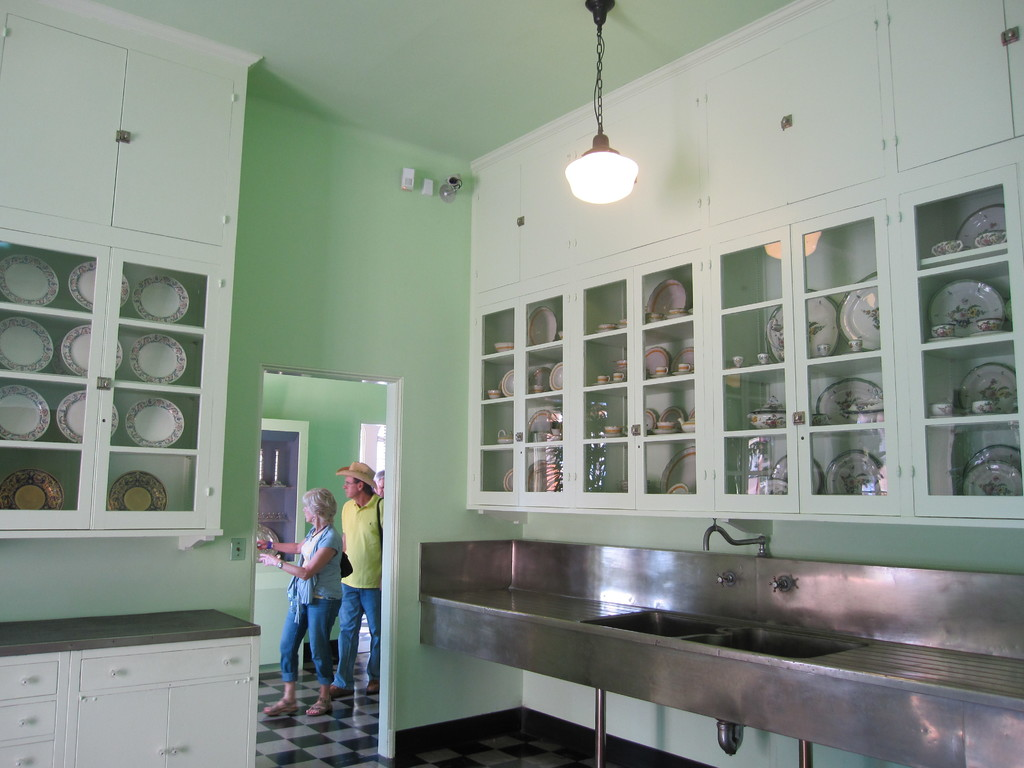tap: (700, 520, 778, 551)
